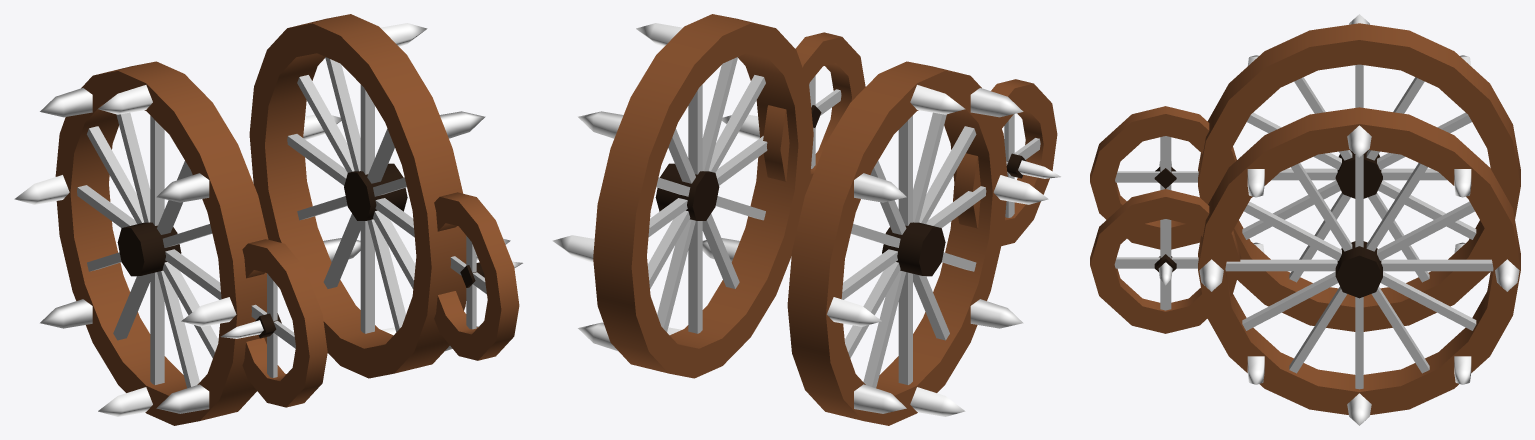
The model's file is Wheels_Train.fbx.
The picture shows the model from 3 angles, left to right: view 1: azimuth 30°, elevation 25°; view 2: azimuth 150°, elevation 25°; view 3: azimuth 270°, elevation 25°; orthographic projection. The views are drawn at different scales.
Visible parts, largest first — view 1: wheel_train_rightback, wheel_train_leftback, wheel_train_rightfront, wheel_train_leftfront; view 2: wheel_train_rightback, wheel_train_leftback, wheel_train_rightfront, wheel_train_leftfront; view 3: wheel_train_leftback, wheel_train_rightback, wheel_train_leftfront, wheel_train_rightfront.
Part boxes in pixels (<box>): wheel_train_rightback: <box>14,61,268,425</box>; wheel_train_leftback: <box>249,14,510,378</box>; wheel_train_rightfront: <box>220,239,327,407</box>; wheel_train_leftfront: <box>434,192,522,360</box>; wheel_train_rightback: <box>787,61,1048,425</box>; wheel_train_leftback: <box>552,14,813,378</box>; wheel_train_rightfront: <box>954,79,1060,245</box>; wheel_train_leftfront: <box>763,32,865,182</box>; wheel_train_leftback: <box>1198,107,1520,425</box>; wheel_train_rightback: <box>1198,14,1520,331</box>; wheel_train_leftfront: <box>1090,189,1241,333</box>; wheel_train_rightfront: <box>1090,106,1236,249</box>.
Bounding box in the file's own units: 209 × 200 × 267.
